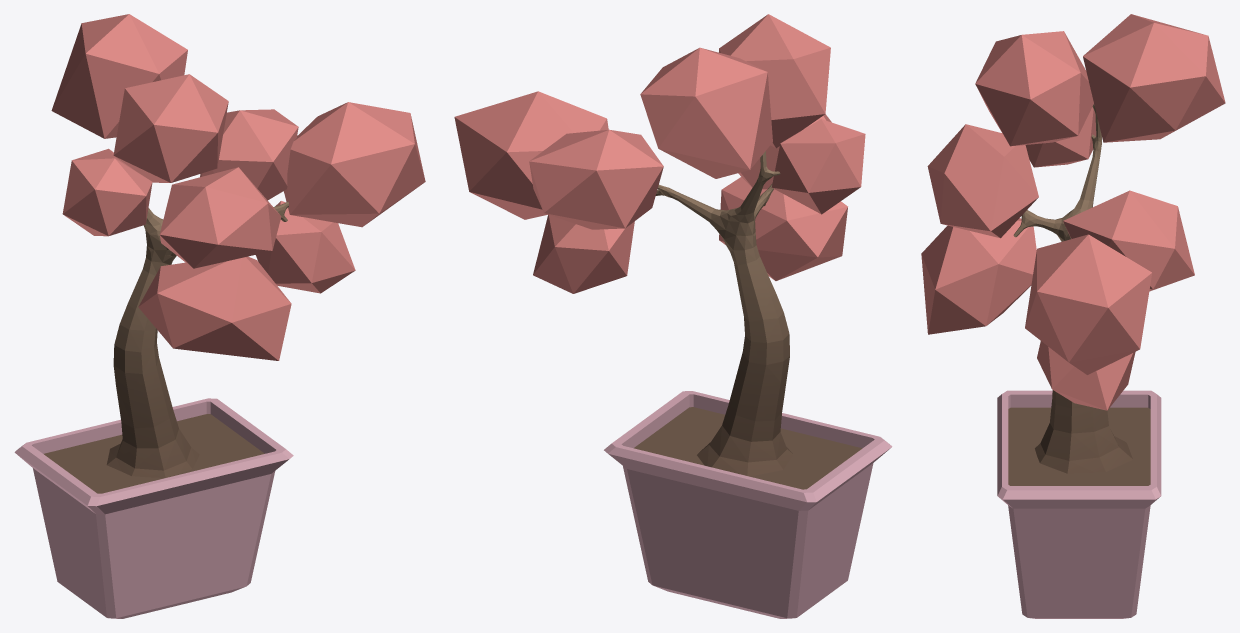
File: Plant_04.fbx
3 renders of one model, left to right at view 1: azimuth 30°, elevation 25°; view 2: azimuth 150°, elevation 25°; view 3: azimuth 270°, elevation 25°, orthographic. The views are drawn at different scales.
Parts seen in each view (by area): view 1: Plant_04; view 2: Plant_04; view 3: Plant_04.
Part boxes in pixels (x1,y1,x2,y2): Plant_04: (14,14,425,618); Plant_04: (454,14,892,618); Plant_04: (921,14,1225,618).
Size of the model in its own units: 24.16 by 33.76 by 16.32.
